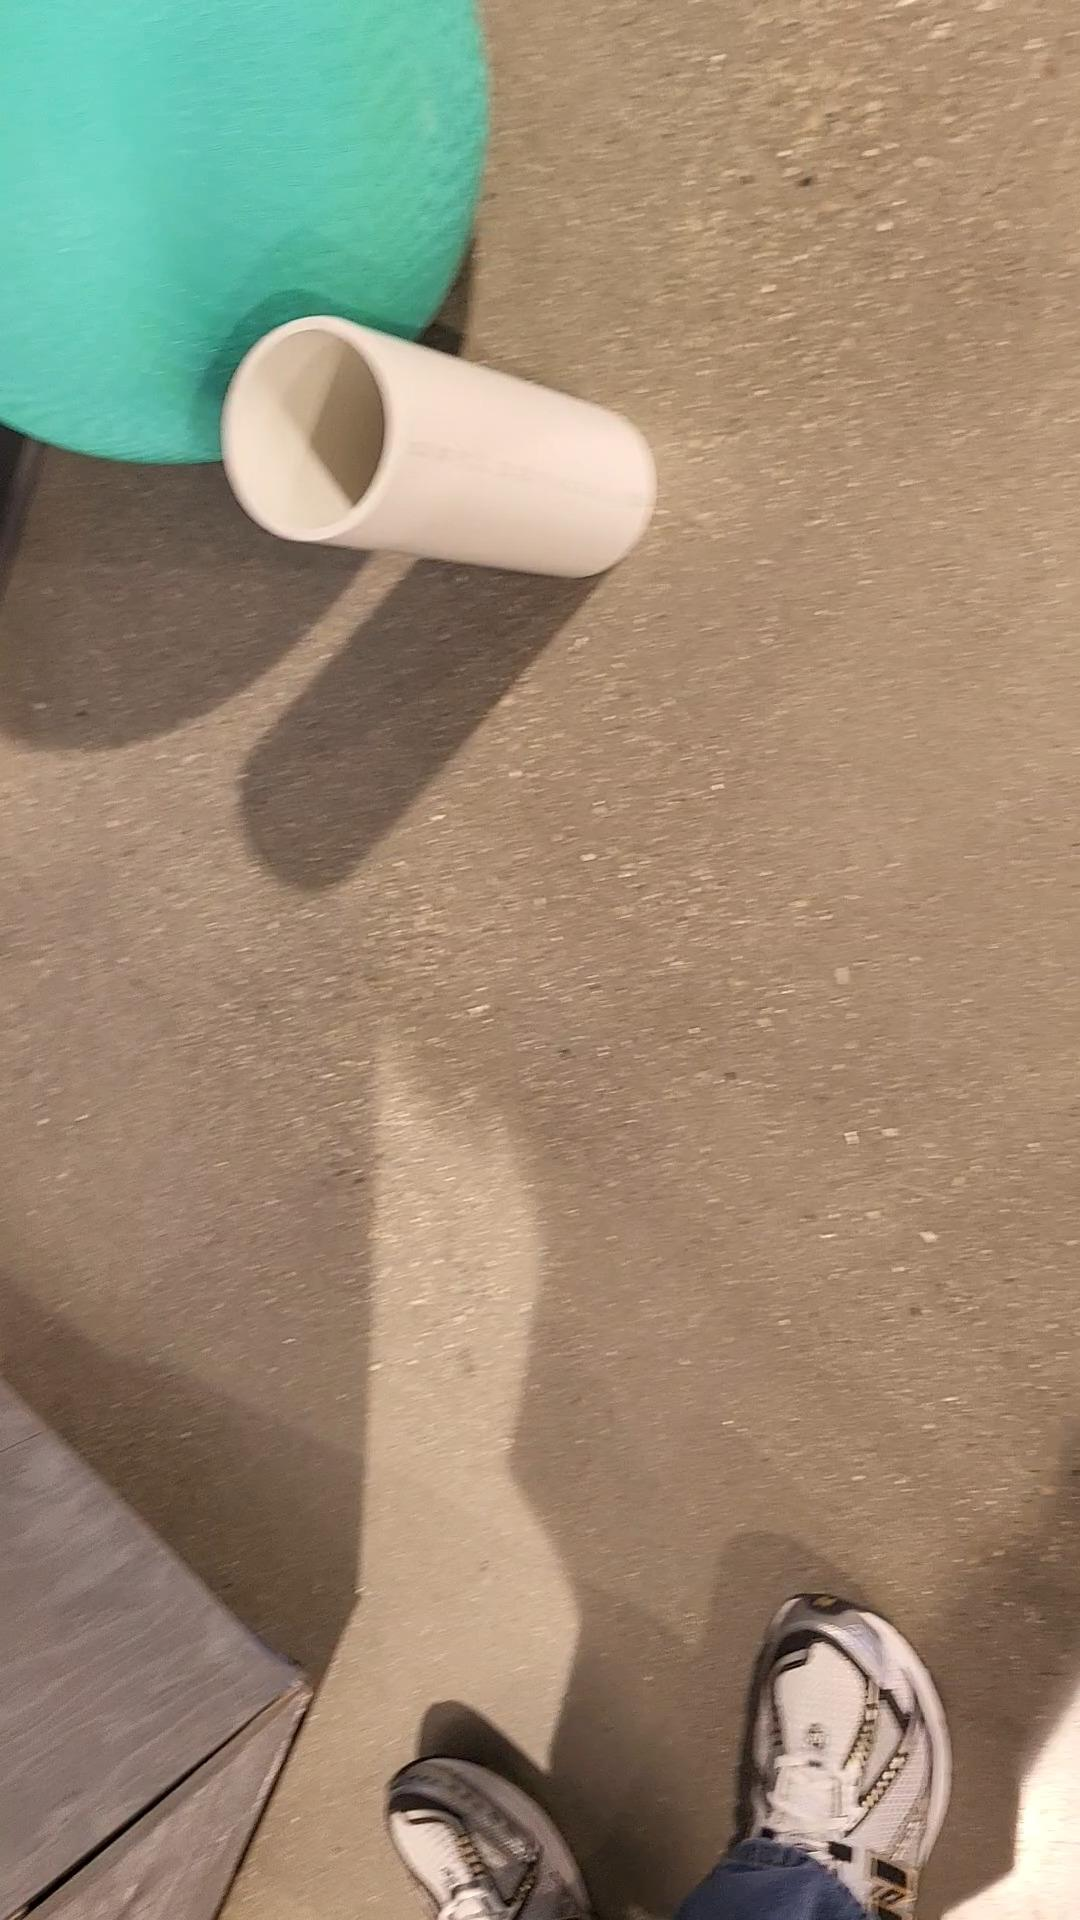algae: (0, 0, 488, 465)
coral: (220, 313, 658, 580)
